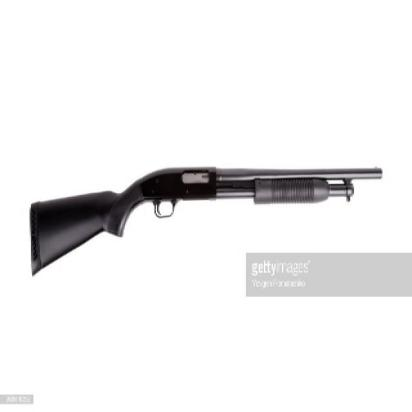Gun: (13, 151, 384, 267)
